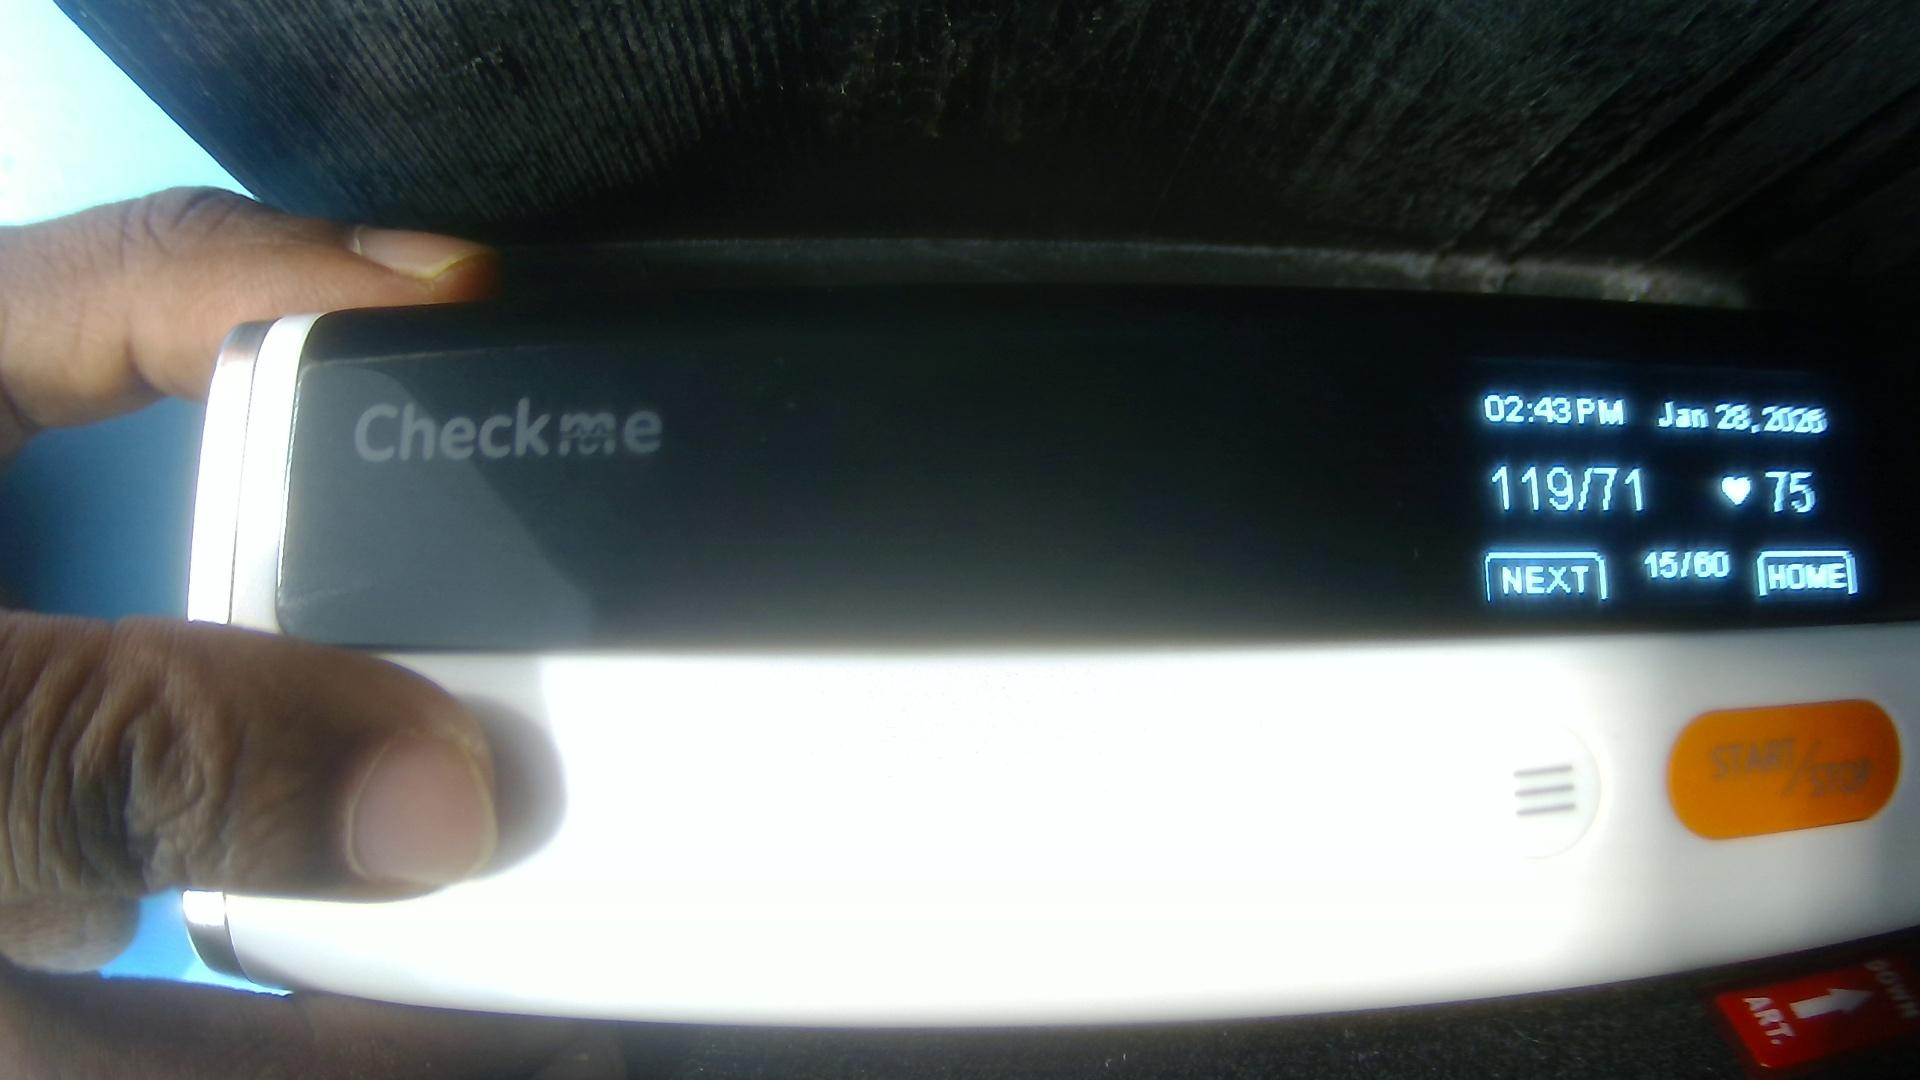DISPLAY: (294, 313, 1913, 629)
